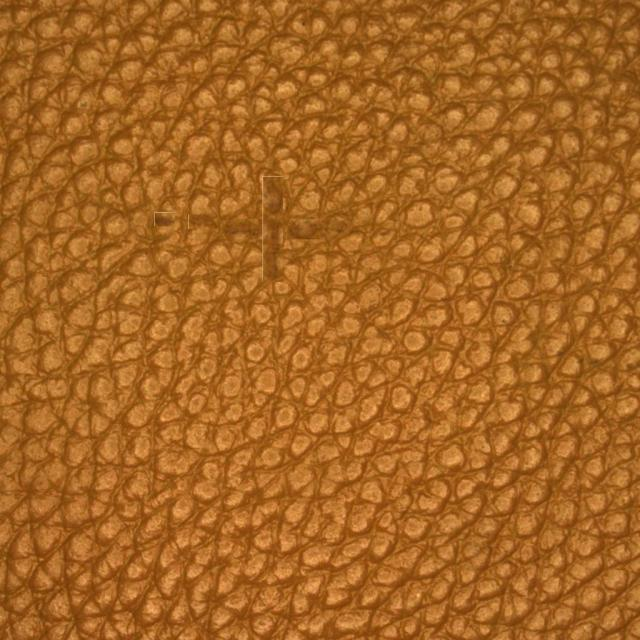Healed Injury: (233, 123, 373, 304)
